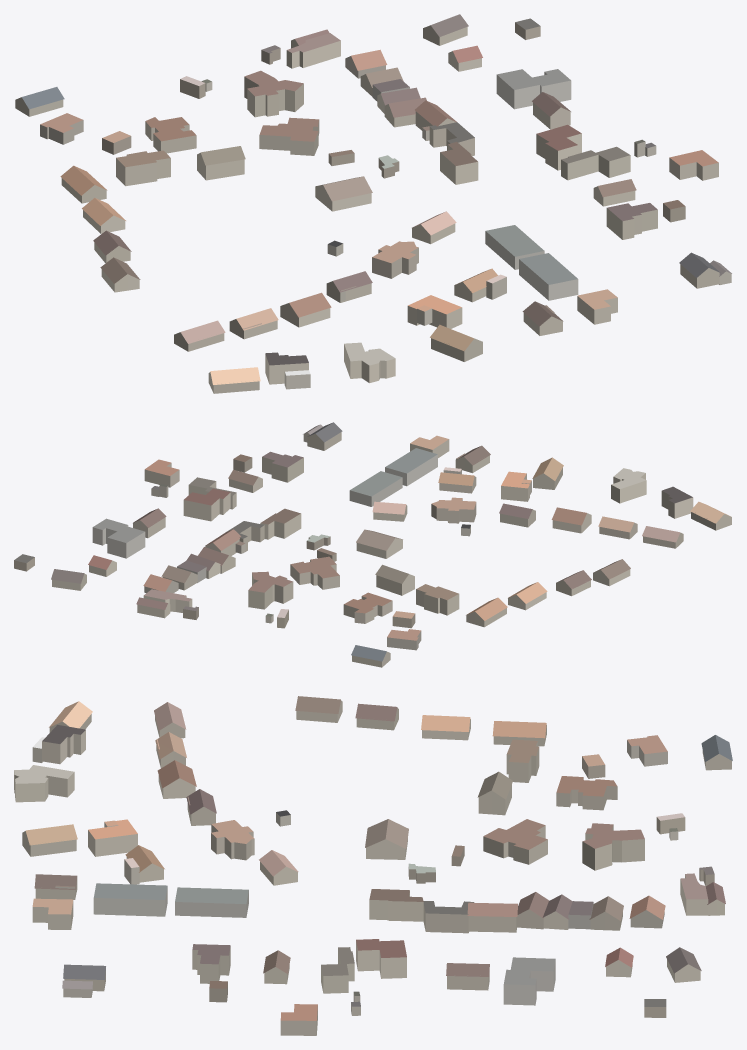
3 renders of one model, top to bottom at view 1: azimuth 30°, elevation 25°; view 2: azimuth 150°, elevation 25°; view 3: azimuth 270°, elevation 25°, orthographic. The views are drawn at different scales.
Parts seen in each view (by area): view 1: tuile; view 2: tuile; view 3: tuile.
Part boxes in pixels (bbox=[...]): tuile: bbox=[15, 14, 731, 393]; tuile: bbox=[14, 422, 731, 667]; tuile: bbox=[14, 696, 732, 1035].
Bounding box in the file's own units: 258 × 23.22 × 251.
